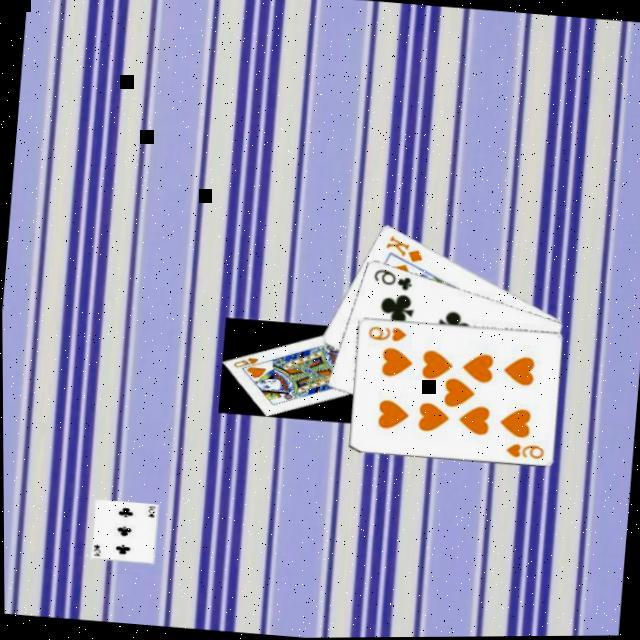6C: (368, 266, 413, 296)
9H: (362, 323, 408, 348), (500, 442, 544, 464)
KD: (380, 234, 426, 268)
